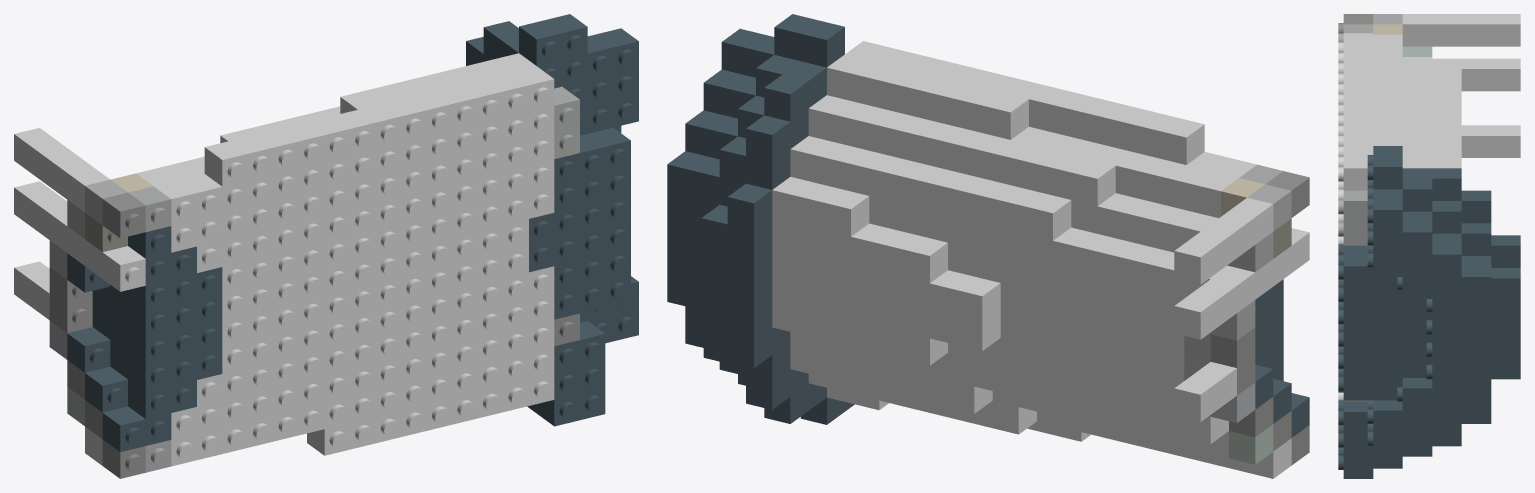
The model's file is full.glb.
The picture shows the model from 3 angles, left to right: view 1: azimuth 30°, elevation 25°; view 2: azimuth 150°, elevation 25°; view 3: azimuth 270°, elevation 25°; orthographic projection. The views are drawn at different scales.
Parts seen in each view (by area): view 1: world; view 2: world; view 3: world.
Part boxes in pixels (box(x1,y1,x2,y2)): world: box(14, 14, 638, 478); world: box(667, 14, 1309, 478); world: box(1338, 14, 1520, 478).
Size of the model in its own units: 168 by 112 by 59.4.
